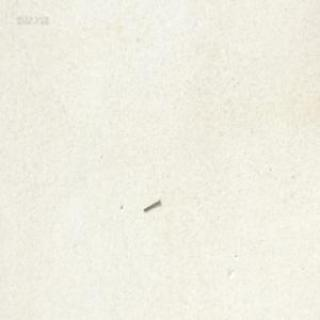Bolttrack_idkeyframe: (141, 198, 160, 212)
